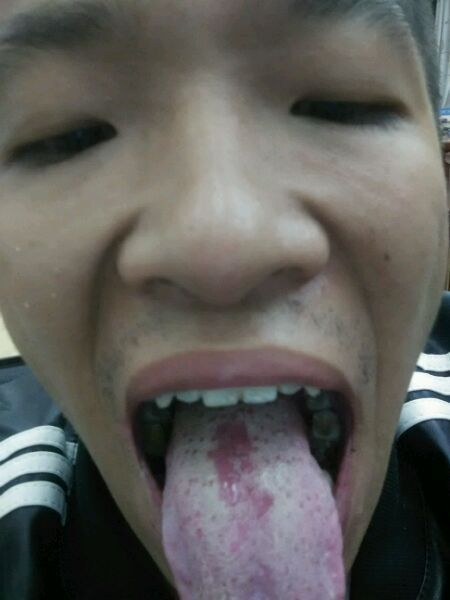baitaishe: (161, 389, 346, 600)
botaishe: (203, 416, 277, 520)
